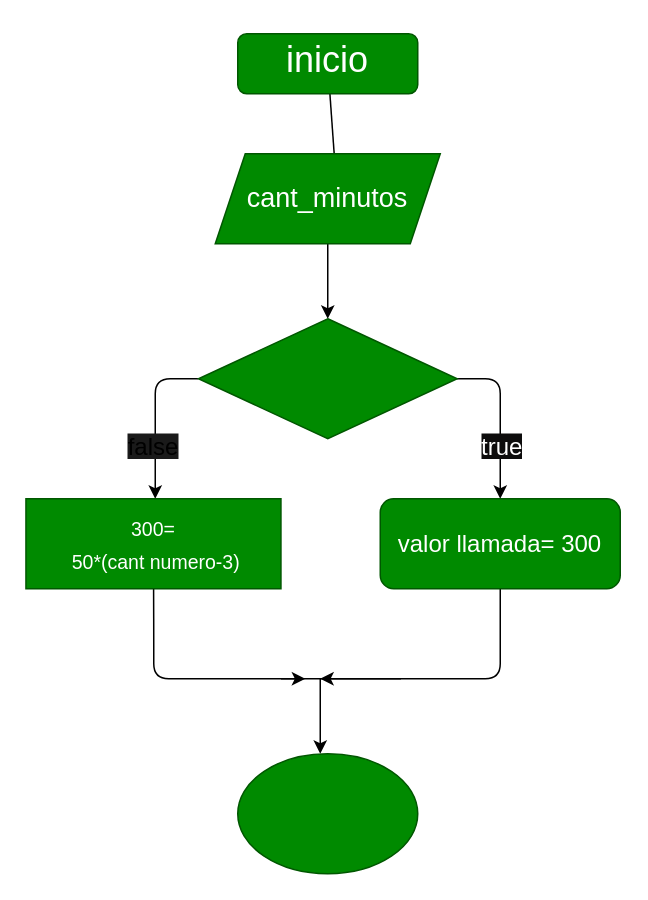
Some shapes in this 648 by 900 pixel diagram are drawn without their labels. Each missing label, with the box of its shape:
cant minutes >= 3: (197, 317, 457, 439)
fin: (236, 752, 418, 874)
